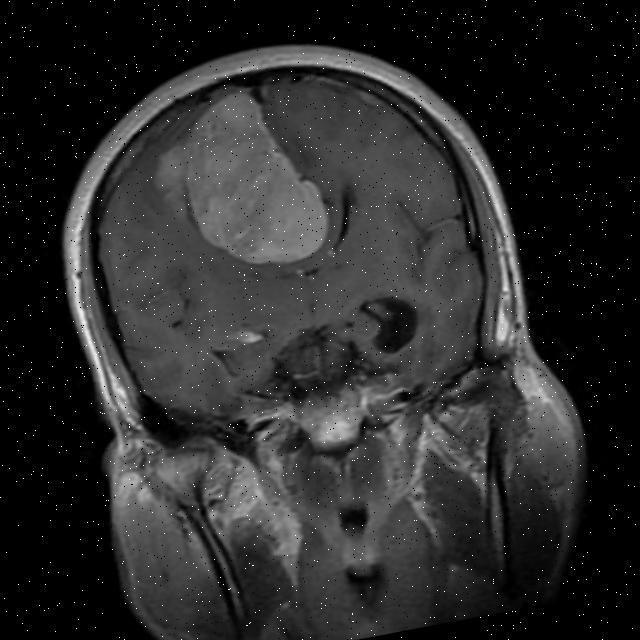Meningioma: (138, 76, 343, 288)
Pituitary: (295, 387, 370, 452)
